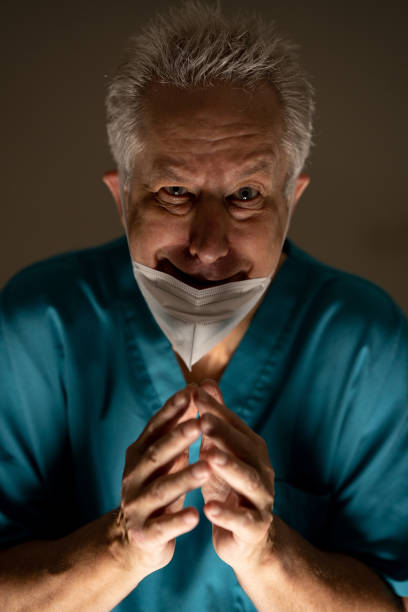mask_weared_incorrect: (112, 31, 302, 369)
